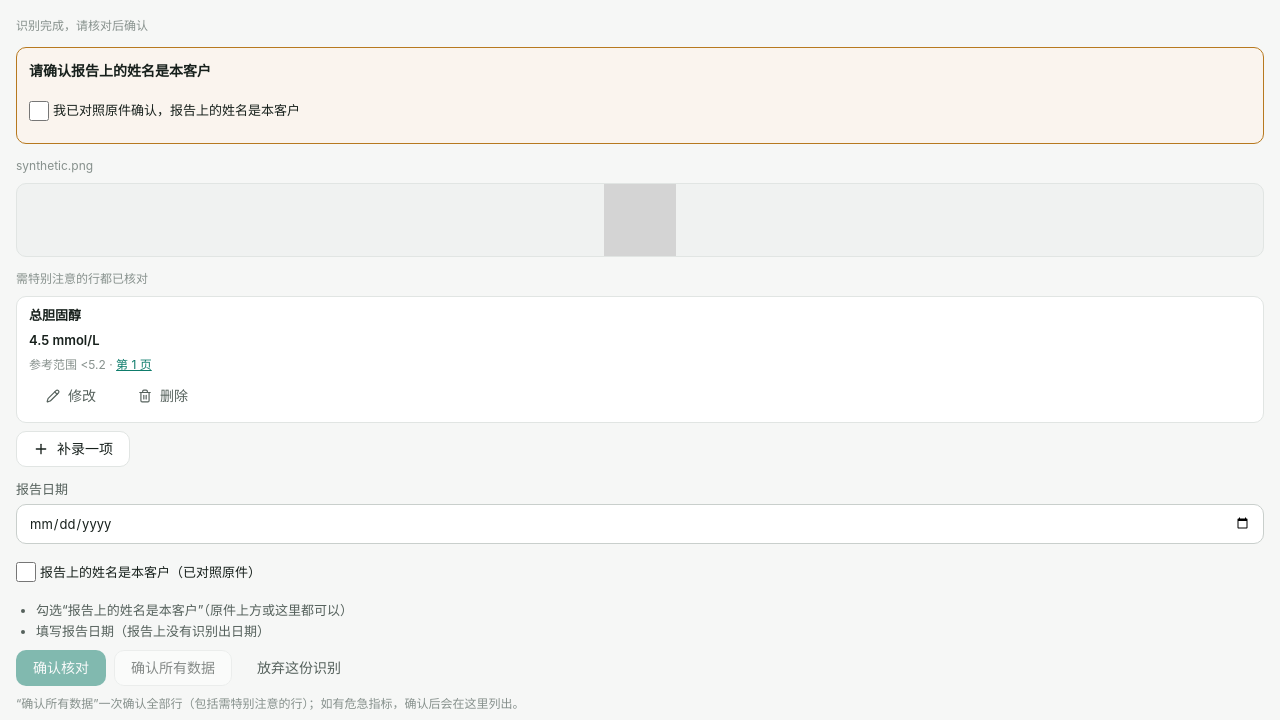
核对界面 › 手机验收反馈 1：按钮旁的勾选框和上方同步，报告日期为空时说明原因
Click the checkbox labelled "报告上的姓名是本客户（已对照原件）" at [26, 572], box [16,562,36,582]
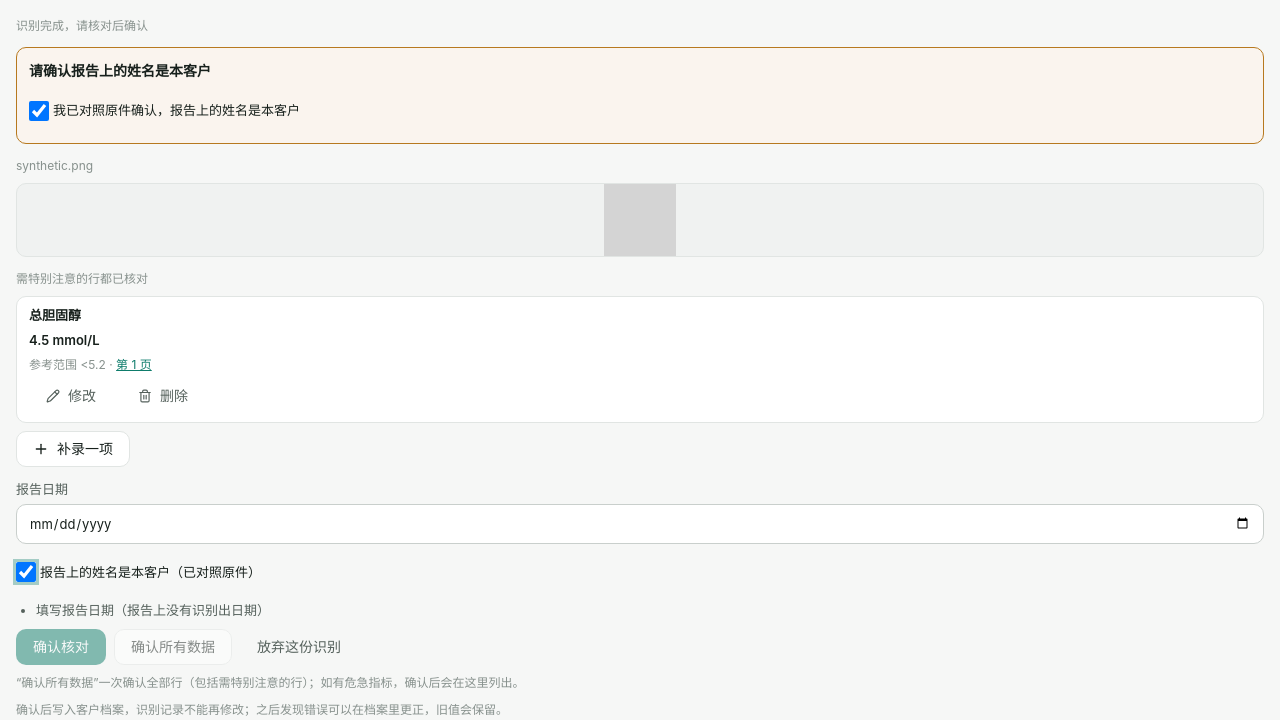
expect the button "确认所有数据" is disabled: met, box [114,629,232,665]
expect the checkbox labelled "我已对照原件确认，报告上的姓名是本客户" is checked: met, box [29,101,49,121]
Type "2026-09-01" into the date field labelled "报告日期" at [640, 524], box [16,504,1264,544]
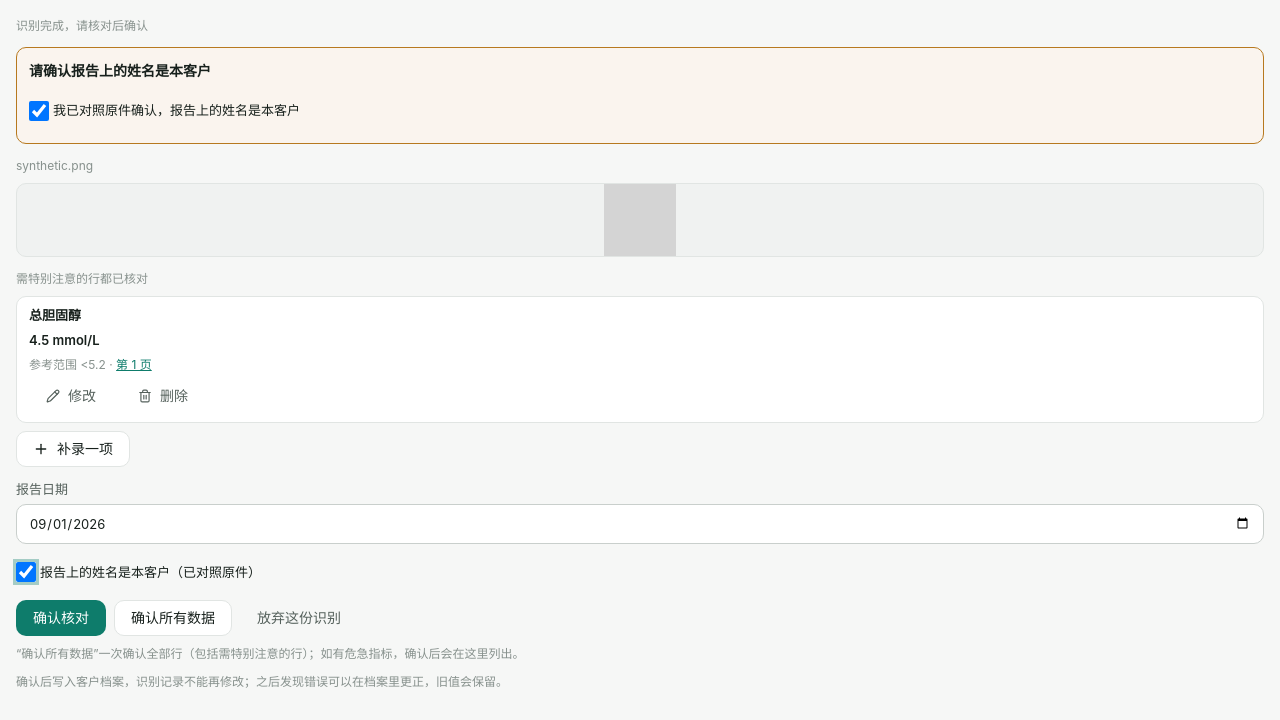
expect the button "确认核对" is enabled: met, box [16,600,106,636]
expect the button "确认所有数据" is enabled: met, box [114,600,232,636]
expect the list "确认前还需要" is gone: met
# 取消上方的勾选，下方同步取消
Click the checkbox labelled "我已对照原件确认，报告上的姓名是本客户" at [39, 111], box [29,101,49,121]
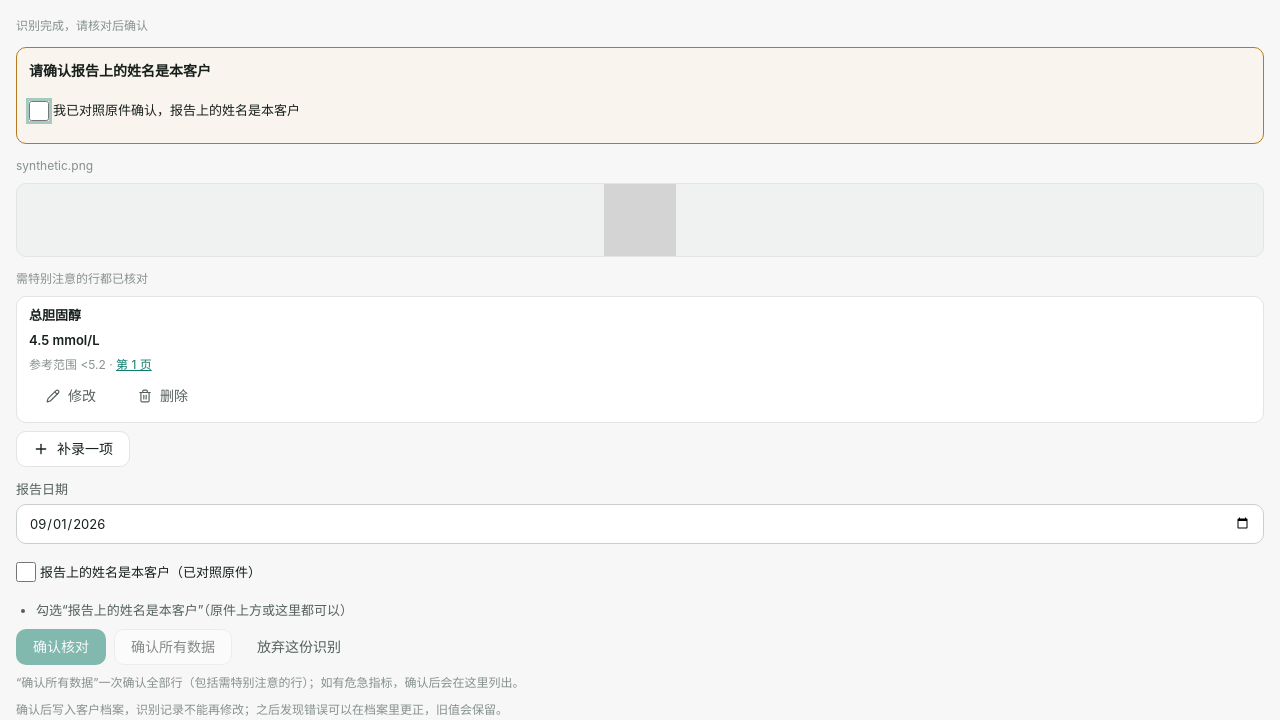
expect the checkbox labelled "报告上的姓名是本客户（已对照原件）" is not checked: met, box [16,562,36,582]
expect the button "确认所有数据" is disabled: met, box [114,629,232,665]
